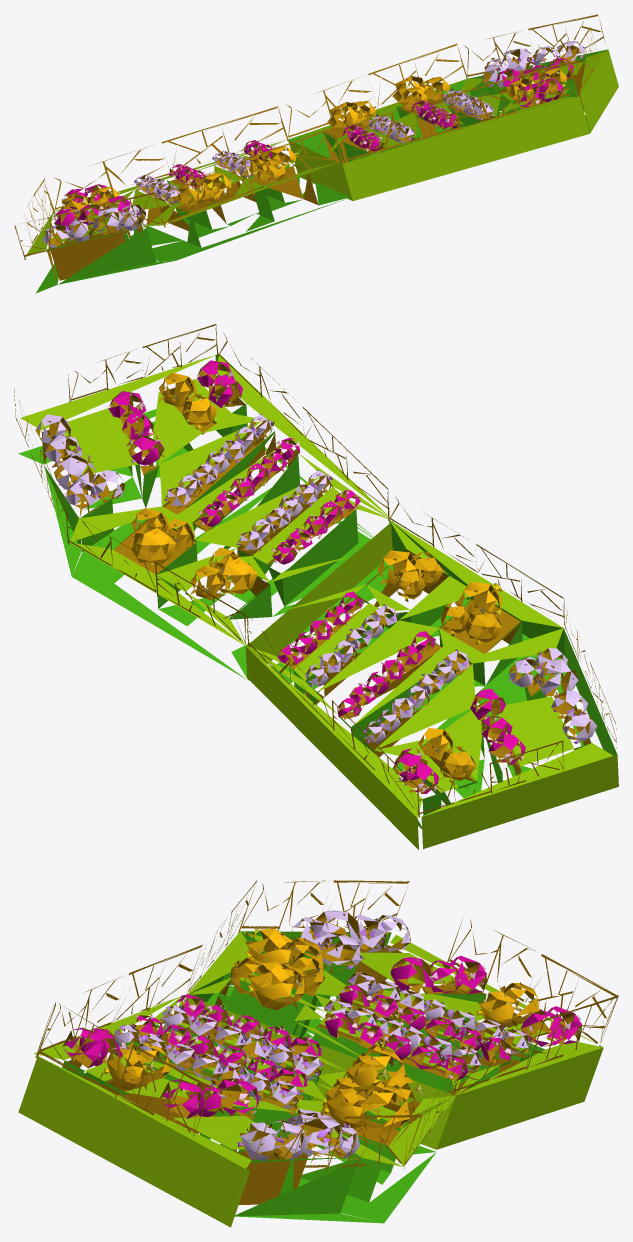
Rendered from garden.gltf.
3 renders of one model, top to bottom at view 1: azimuth 30°, elevation 25°; view 2: azimuth 150°, elevation 25°; view 3: azimuth 270°, elevation 25°, orthographic. The views are drawn at different scales.
Parts seen in each view (by area): view 1: Ground_Mesh753_Garden1_Component_1_1_Model, Flowers_Mesh1014_Group58_Garden2_Component_1_1_Model, Fence_Mesh752_Fence4_Garden1_Component_1_1_Model; view 2: Ground_Mesh753_Garden1_Component_1_1_Model, Flowers_Mesh1014_Group58_Garden2_Component_1_1_Model, Fence_Mesh752_Fence4_Garden1_Component_1_1_Model; view 3: Ground_Mesh753_Garden1_Component_1_1_Model, Flowers_Mesh1014_Group58_Garden2_Component_1_1_Model, Fence_Mesh752_Fence4_Garden1_Component_1_1_Model.
Boxes of the visible parts, bbox=[...] form: Ground_Mesh753_Garden1_Component_1_1_Model: bbox=[25, 49, 618, 293]; Flowers_Mesh1014_Group58_Garden2_Component_1_1_Model: bbox=[42, 40, 585, 247]; Fence_Mesh752_Fence4_Garden1_Component_1_1_Model: bbox=[14, 14, 605, 259]; Ground_Mesh753_Garden1_Component_1_1_Model: bbox=[18, 354, 618, 849]; Flowers_Mesh1014_Group58_Garden2_Component_1_1_Model: bbox=[35, 360, 596, 793]; Fence_Mesh752_Fence4_Garden1_Component_1_1_Model: bbox=[14, 324, 616, 817]; Ground_Mesh753_Garden1_Component_1_1_Model: bbox=[18, 931, 603, 1227]; Flowers_Mesh1014_Group58_Garden2_Component_1_1_Model: bbox=[62, 910, 581, 1161]; Fence_Mesh752_Fence4_Garden1_Component_1_1_Model: bbox=[35, 880, 618, 1174].
Size of the model in its own units: 4352 by 1727 by 2654.
